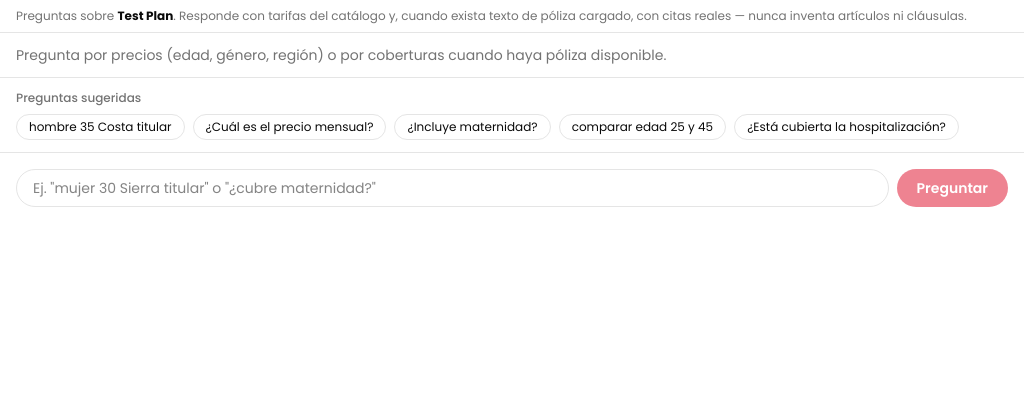
it: CoverageAssistant › handles unknown/abstained responses
The image size is (1024, 404).
Type "¿Cubren viajes al espacio?" into the field named "Tu pregunta sobre cobertura" at (452, 188), box [16,169,889,207]
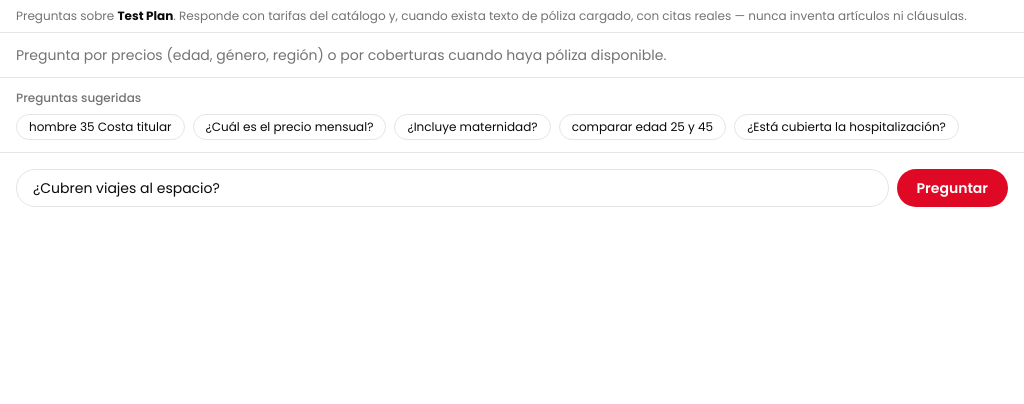
Click the button "Preguntar" at (952, 188), box [897,169,1008,207]
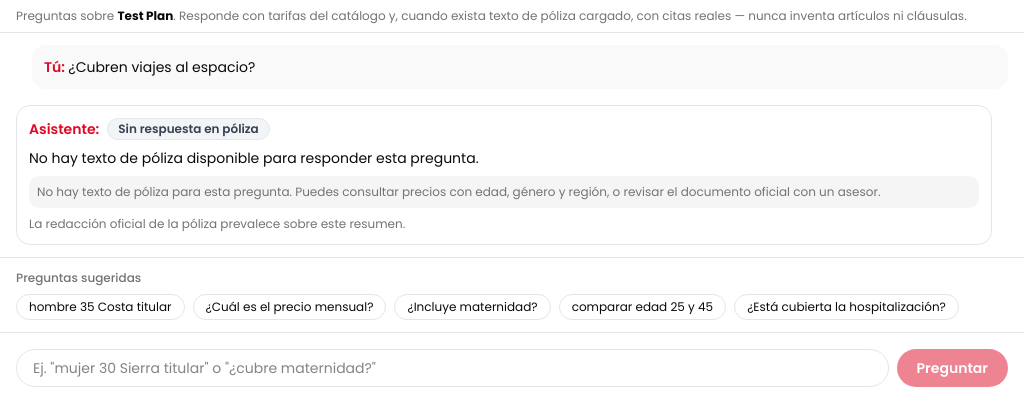
Expected: the text "Sin respuesta en póliza" is shown, [107,118,270,140]
Expected: the text "No hay texto de póliza para esta pregunta" is shown, [37,183,880,200]
